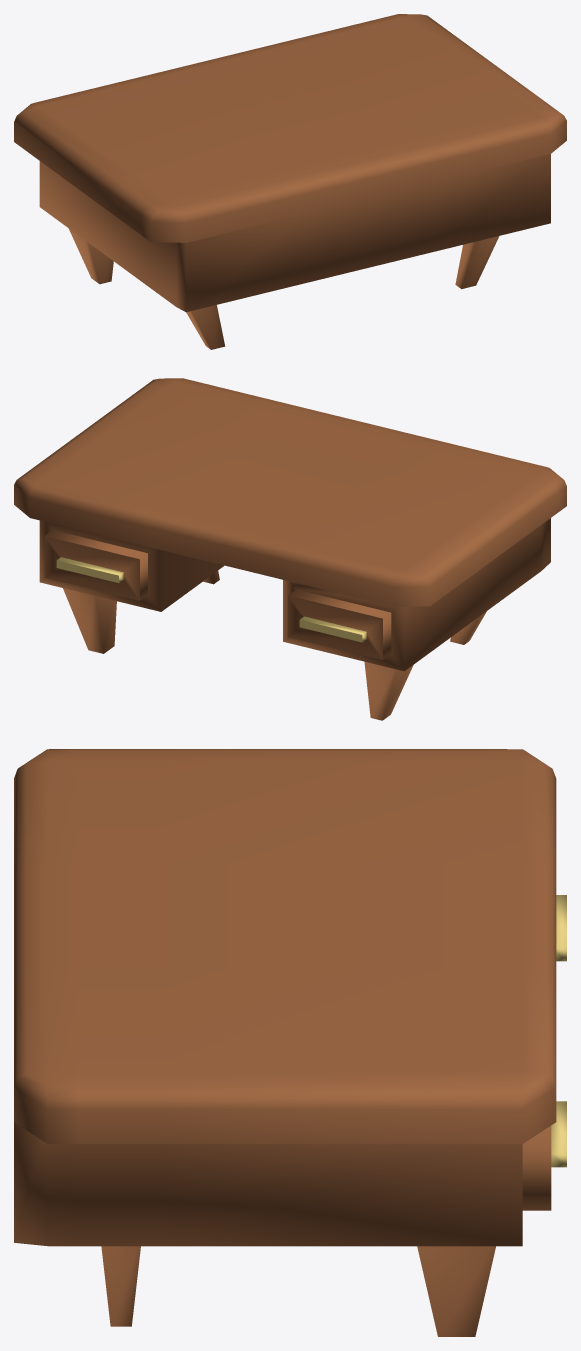
File: props_desk.fbx
The picture shows the model from 3 angles, top to bottom: view 1: azimuth 30°, elevation 25°; view 2: azimuth 150°, elevation 25°; view 3: azimuth 270°, elevation 25°; orthographic projection. The views are drawn at different scales.
Parts seen in each view (by area): view 1: Cube; view 2: Cube; view 3: Cube.
Part boxes in pixels (bbox=[...]): Cube: bbox=[14, 14, 566, 349]; Cube: bbox=[14, 378, 566, 720]; Cube: bbox=[14, 749, 566, 1336].
Bounding box in the file's own units: 501 × 196 × 332.
